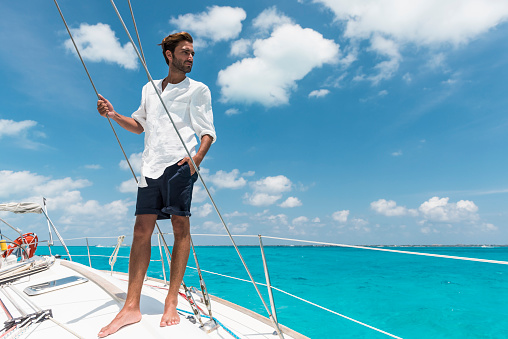em pe: (95, 19, 220, 338)
